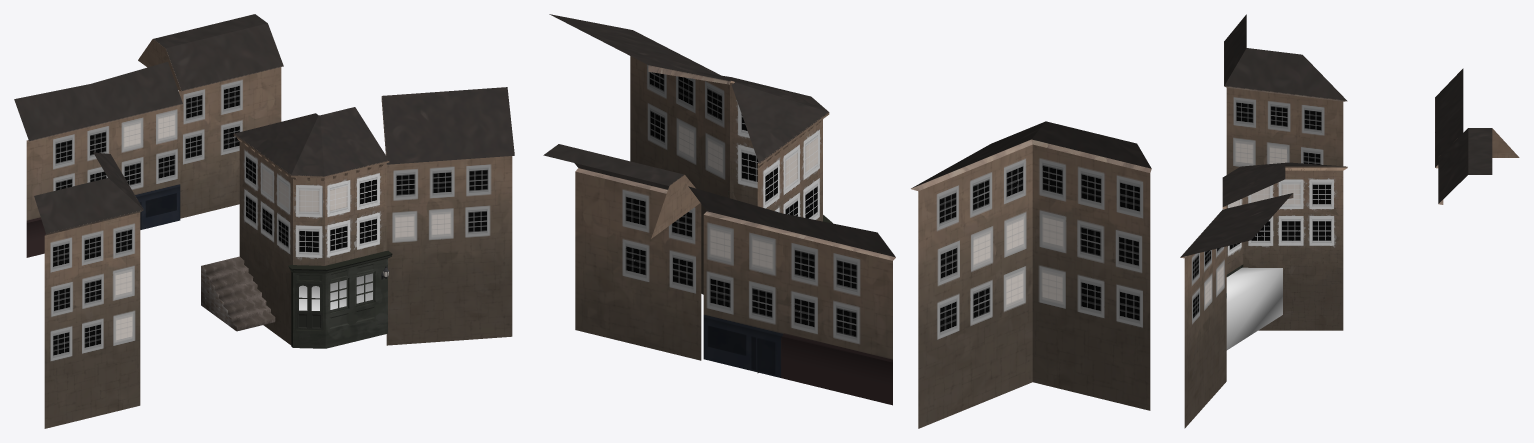
File: MainMenuScene.fbx
The picture shows the model from 3 angles, left to right: view 1: azimuth 30°, elevation 25°; view 2: azimuth 150°, elevation 25°; view 3: azimuth 270°, elevation 25°; orthographic projection. The views are drawn at different scales.
Visible parts, largest first — view 1: PropBuildings, MainBuildings, Cube.013, Cube.027, Door; view 2: PropBuildings, MainBuildings; view 3: PropBuildings, MainBuildings, Cube.027.
Boxes of the visible parts, x1,y1,x2,y2 form: PropBuildings: (14,14,514,428); MainBuildings: (233,107,392,348); Cube.013: (201,256,275,331); Cube.027: (299,273,372,310); Door: (295,282,323,330); PropBuildings: (543,14,1151,428); MainBuildings: (693,71,832,373); PropBuildings: (1180,14,1519,428); MainBuildings: (1222,162,1347,330); Cube.027: (1226,267,1282,350).
Bounding box in the file's own units: 1546 × 700 × 1020.
